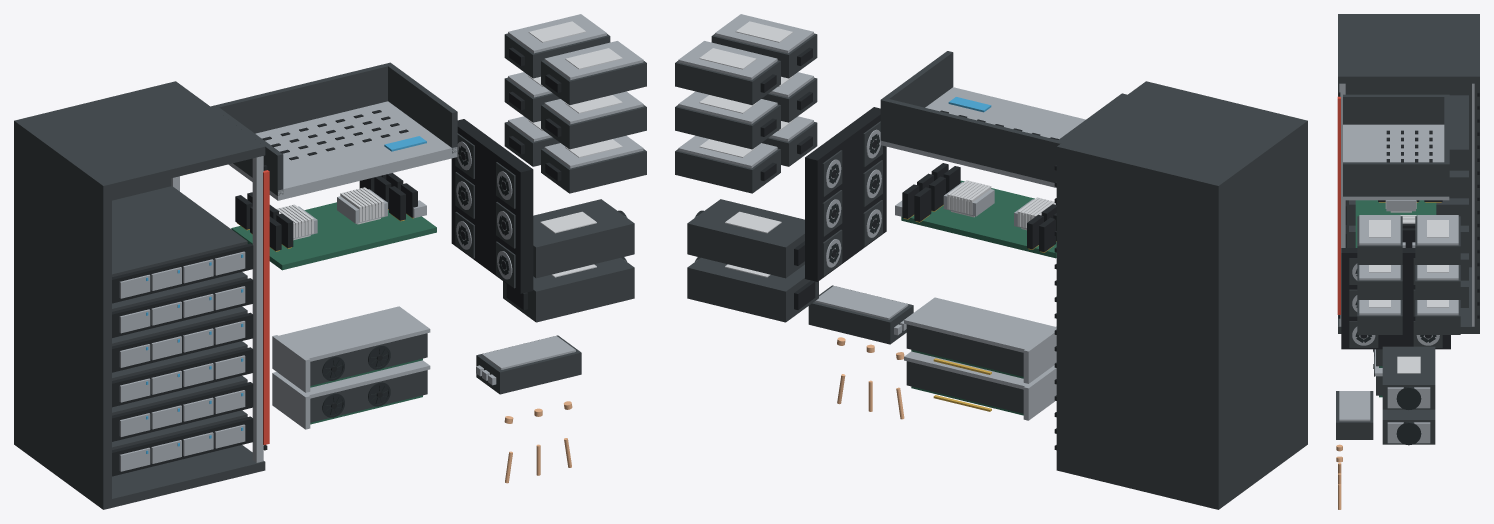
File: cocometric-before-router-cleanup.glb
3 renders of one model, left to right at view 1: azimuth 30°, elevation 25°; view 2: azimuth 150°, elevation 25°; view 3: azimuth 270°, elevation 25°, orthographic. The views are drawn at different scales.
Visible parts, largest first — view 1: Rack_Left_Side, Rack_Top, Exploded_Chassis_Base, Installed_Server_5, Fan_Wall, Exploded_Chassis_Back, Rack_Bottom, PSU_0, Motherboard, PSU_1, GPU_1_Backplate, Rack_Right_Rail_Front (+32 smaller); view 2: Rack_Back, Rack_Left_Side, Rack_Top, Exploded_Chassis_Back, Fan_Wall, PSU_0, PSU_1, Exploded_Chassis_Base, GPU_1_Backplate, Motherboard, GPU_0_Body, GPU_1_Body (+17 smaller); view 3: Rack_Top, Exploded_Chassis_Base, Exploded_Chassis_Right, Exploded_Chassis_Left, Fan_Wall, Rack_Left_Side, PSU_0, Installed_Server_5, Rack_Back, Drive_0_1, Drive_0_0, PSU_1 (+35 smaller).
Boxes of the visible parts, box(x1,y1,x2,y2) form: Rack_Left_Side: box(14, 119, 111, 509); Rack_Top: box(14, 81, 265, 194); Exploded_Chassis_Base: box(228, 101, 457, 200); Installed_Server_5: box(112, 186, 247, 276); Fan_Wall: box(451, 119, 533, 293); Exploded_Chassis_Back: box(211, 62, 389, 133); Rack_Bottom: box(14, 443, 265, 509); PSU_0: box(533, 199, 634, 278); Motherboard: box(231, 202, 436, 270); PSU_1: box(503, 257, 634, 322); GPU_1_Backplate: box(276, 306, 430, 361); Rack_Right_Rail_Front: box(252, 156, 263, 462); Rack_Back: box(1056, 154, 1221, 501); Rack_Left_Side: box(1210, 120, 1307, 509); Rack_Top: box(1056, 81, 1307, 194); Exploded_Chassis_Back: box(880, 98, 1062, 182); Fan_Wall: box(805, 107, 886, 281); PSU_0: box(687, 199, 804, 278); PSU_1: box(687, 257, 818, 322); Exploded_Chassis_Base: box(881, 87, 1085, 187); GPU_1_Backplate: box(904, 297, 1055, 352); Motherboard: box(901, 180, 1056, 258); GPU_0_Body: box(906, 361, 1023, 413); GPU_1_Body: box(906, 324, 1023, 376); Rack_Top: box(1338, 14, 1479, 83); Exploded_Chassis_Base: box(1343, 124, 1449, 200); Exploded_Chassis_Right: box(1343, 162, 1449, 196); Exploded_Chassis_Left: box(1343, 94, 1444, 124); Fan_Wall: box(1341, 248, 1450, 349); Rack_Left_Side: box(1338, 14, 1478, 267); PSU_0: box(1382, 346, 1435, 409); Installed_Server_5: box(1449, 95, 1468, 170); Rack_Back: box(1474, 82, 1479, 327); Drive_0_1: box(1357, 216, 1402, 264); Drive_0_0: box(1415, 216, 1460, 264); PSU_1: box(1382, 409, 1435, 444).
Bounding box in the file's own units: 8.02 × 5.38 × 2.23.
